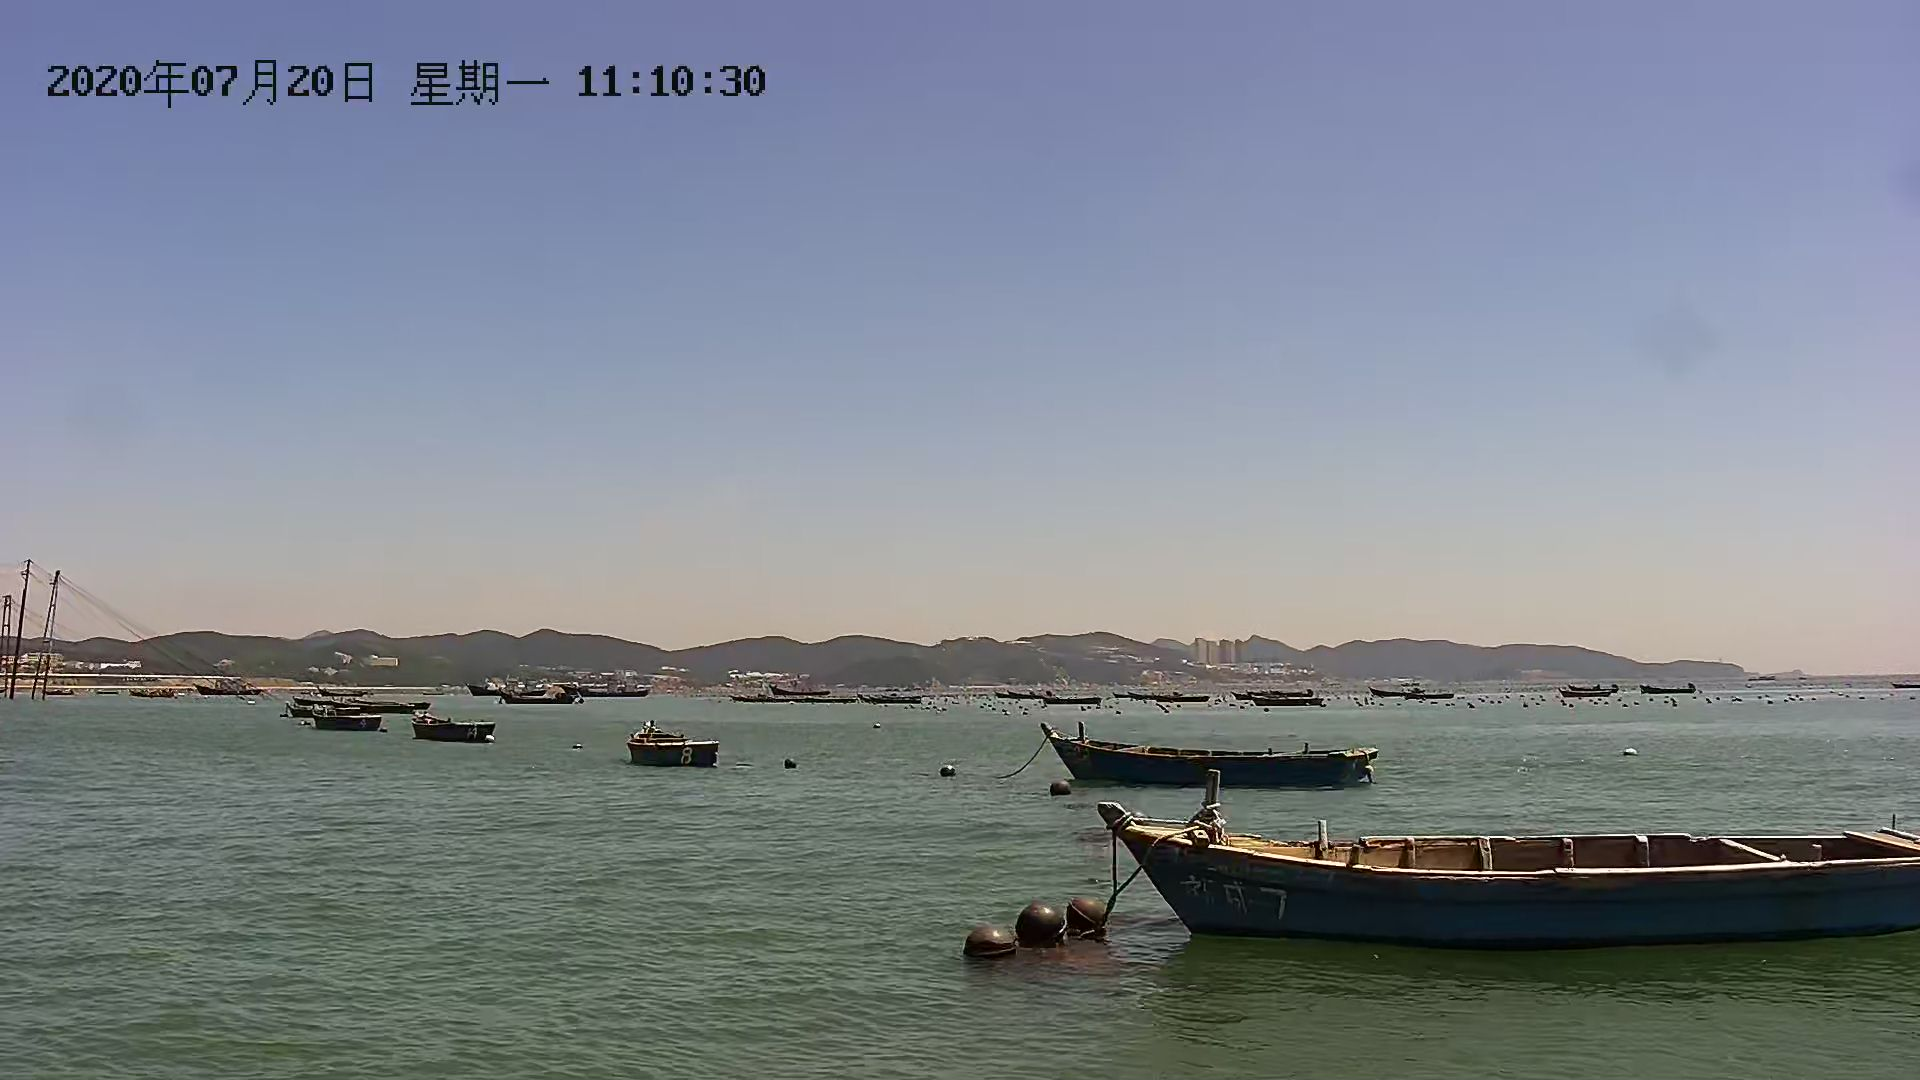ball: (1063, 890, 1134, 949), (1018, 905, 1081, 957), (969, 923, 1015, 965), (934, 760, 975, 785), (773, 754, 806, 775)
boat: (1108, 806, 1920, 934), (1051, 724, 1377, 786), (617, 713, 724, 771), (409, 712, 501, 742), (310, 709, 389, 738)
